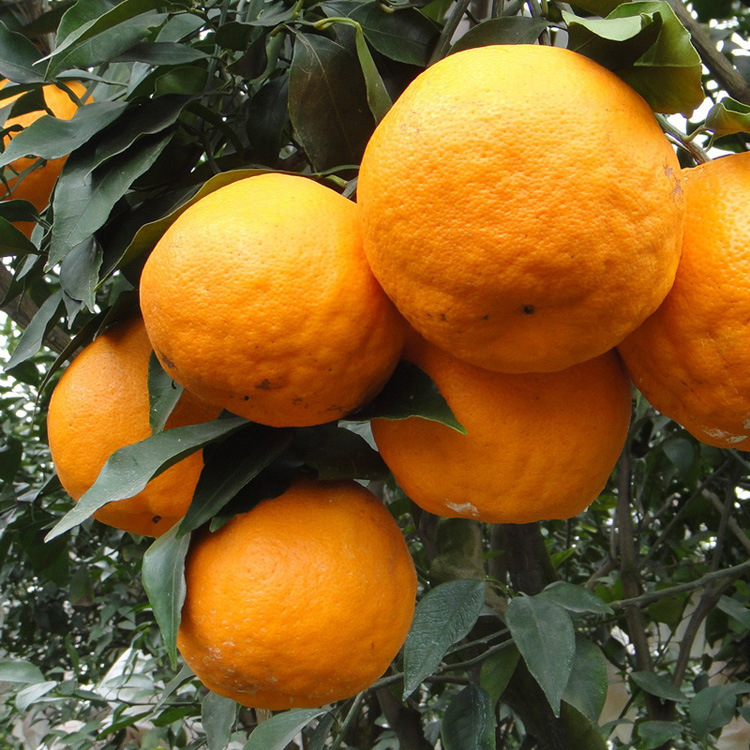orange: (356, 44, 683, 372), (140, 170, 402, 429), (373, 283, 634, 519), (177, 480, 413, 707), (48, 316, 256, 531), (623, 147, 750, 447), (1, 68, 107, 240)
